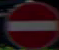No entry: (5, 1, 55, 43)
